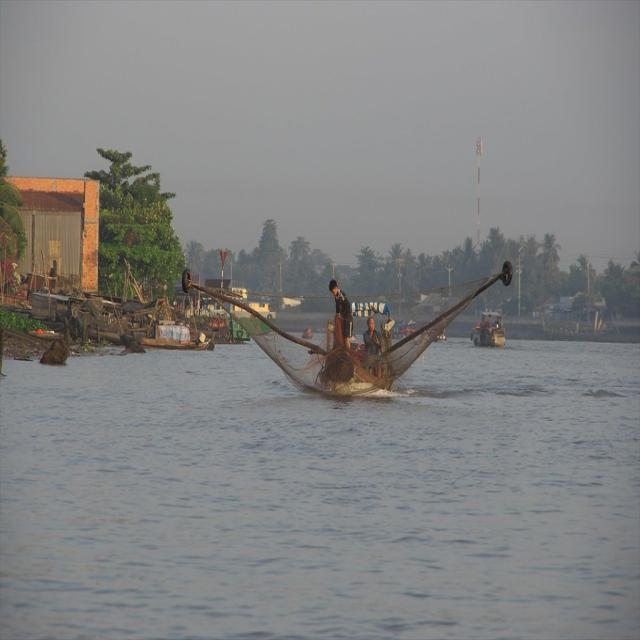boat: (287, 343, 414, 409), (124, 322, 218, 356), (466, 309, 518, 351)
